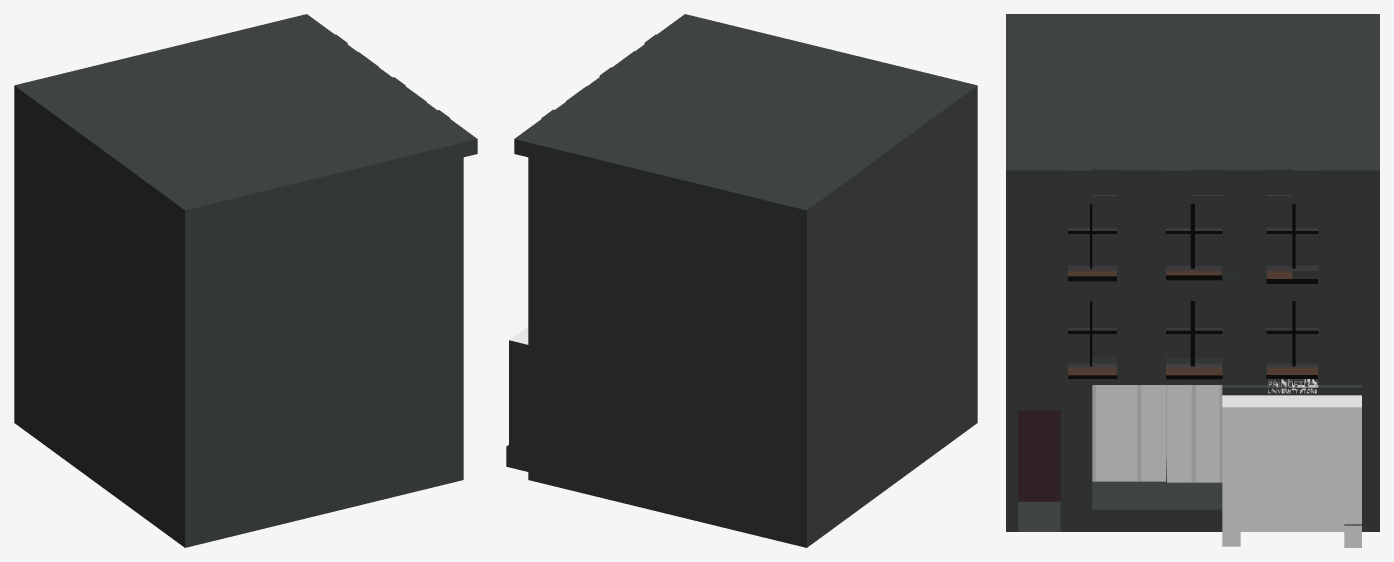
Rendered from Ustore.gltf.
3 renders of one model, left to right at view 1: azimuth 30°, elevation 25°; view 2: azimuth 150°, elevation 25°; view 3: azimuth 270°, elevation 25°, orthographic. The views are drawn at different scales.
Parts seen in each view (by area): view 1: Cube; view 2: Cube; view 3: Cube.
Boxes of the visible parts, x1,y1,x2,y2 form: Cube: (14, 14, 477, 547); Cube: (506, 14, 977, 547); Cube: (1006, 14, 1379, 547).
Size of the model in its own units: 33.8 by 35.33 by 32.4.
